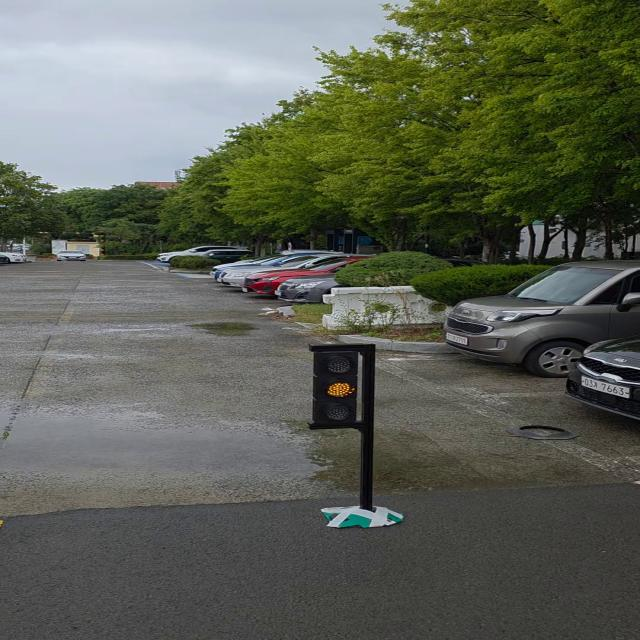yellow: (312, 342, 364, 430)
